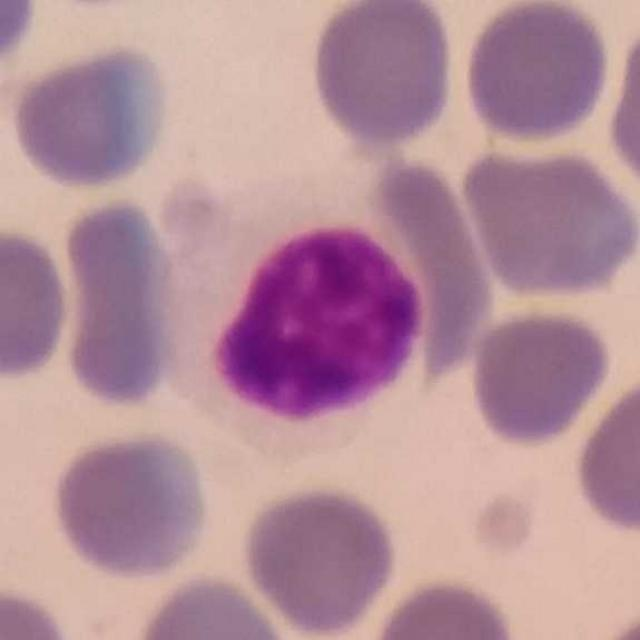Lymphocyte: (148, 164, 433, 459)
Platelets: (474, 490, 538, 555)
RBC: (352, 151, 498, 383), (457, 137, 640, 304), (56, 191, 186, 413), (47, 426, 216, 584), (5, 39, 176, 194), (238, 480, 403, 639), (306, 0, 460, 151), (458, 1, 616, 147), (465, 302, 616, 448), (0, 220, 75, 387), (570, 367, 640, 539), (130, 570, 300, 640), (365, 573, 524, 640), (602, 9, 640, 206), (0, 581, 78, 640), (0, 1, 41, 75), (585, 599, 640, 640)
